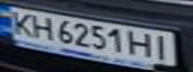1: (106, 26, 127, 54)
2: (69, 20, 90, 48)
5: (87, 22, 109, 51)
6: (51, 18, 75, 45)
H: (27, 12, 57, 41), (127, 29, 157, 58)
I: (148, 33, 178, 61)
K: (3, 9, 39, 37)
